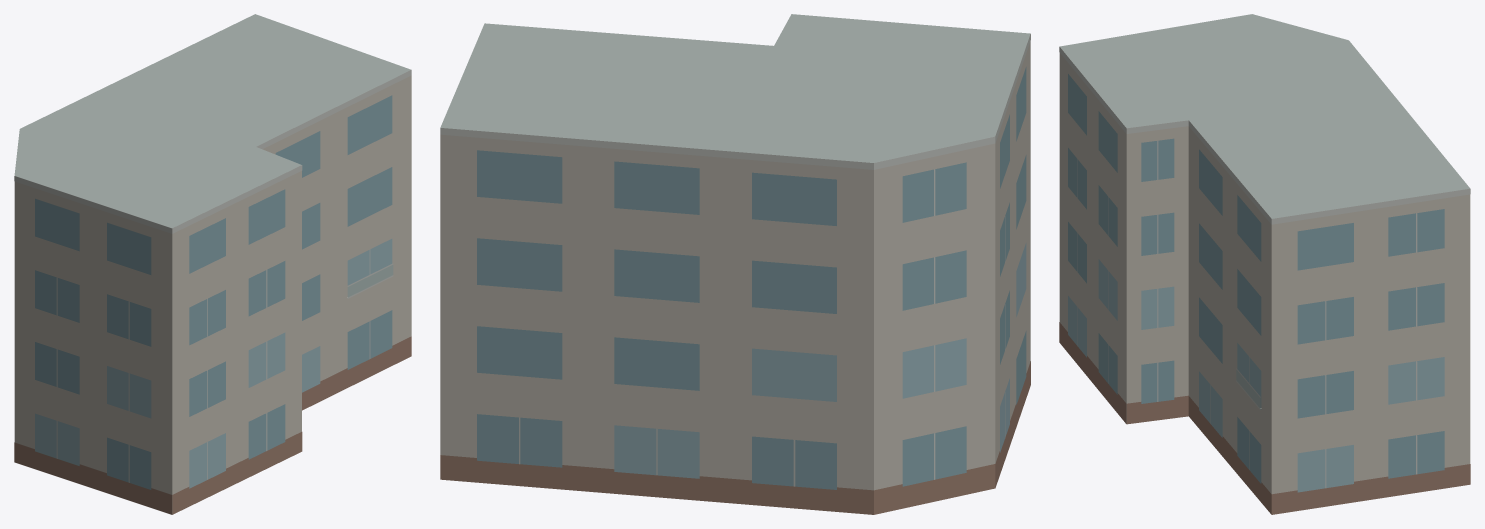
Rendered from survey-upis-32949276.glb.
3 views of the same model, side by side, from view 1: azimuth 30°, elevation 25°; view 2: azimuth 150°, elevation 25°; view 3: azimuth 270°, elevation 25° (orthographic). The views are drawn at different scales.
Visible parts, largest first — view 1: survey-upis-32949276.tmp; view 2: survey-upis-32949276.tmp; view 3: survey-upis-32949276.tmp.
Part boxes in pixels (bbox=[...]): survey-upis-32949276.tmp: bbox=[14, 14, 411, 514]; survey-upis-32949276.tmp: bbox=[440, 14, 1030, 514]; survey-upis-32949276.tmp: bbox=[1059, 14, 1470, 514].
Bounding box in the file's own units: 18.57 × 12.5 × 15.74.
